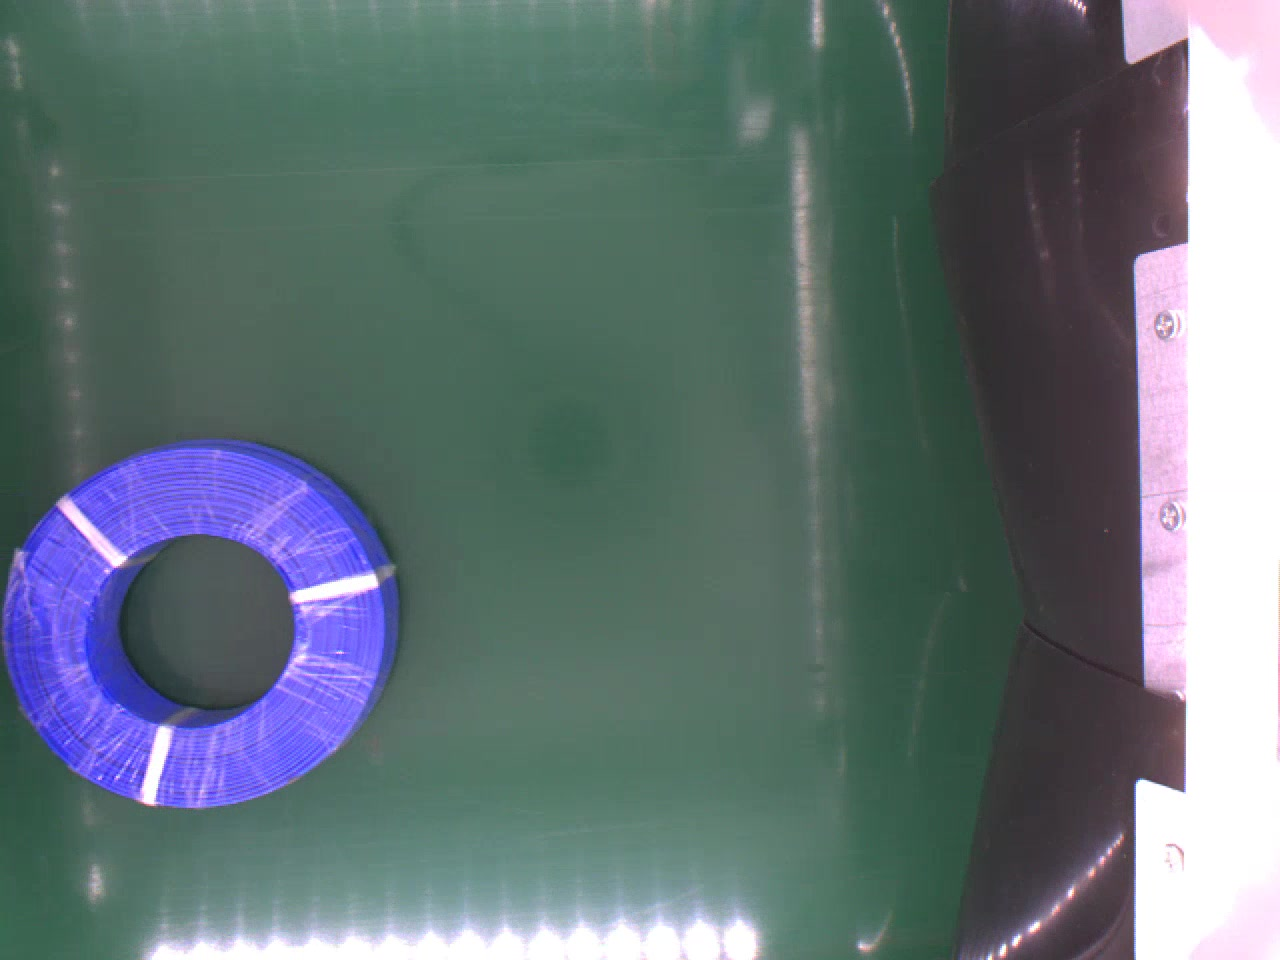blue: (2, 439, 403, 812)
